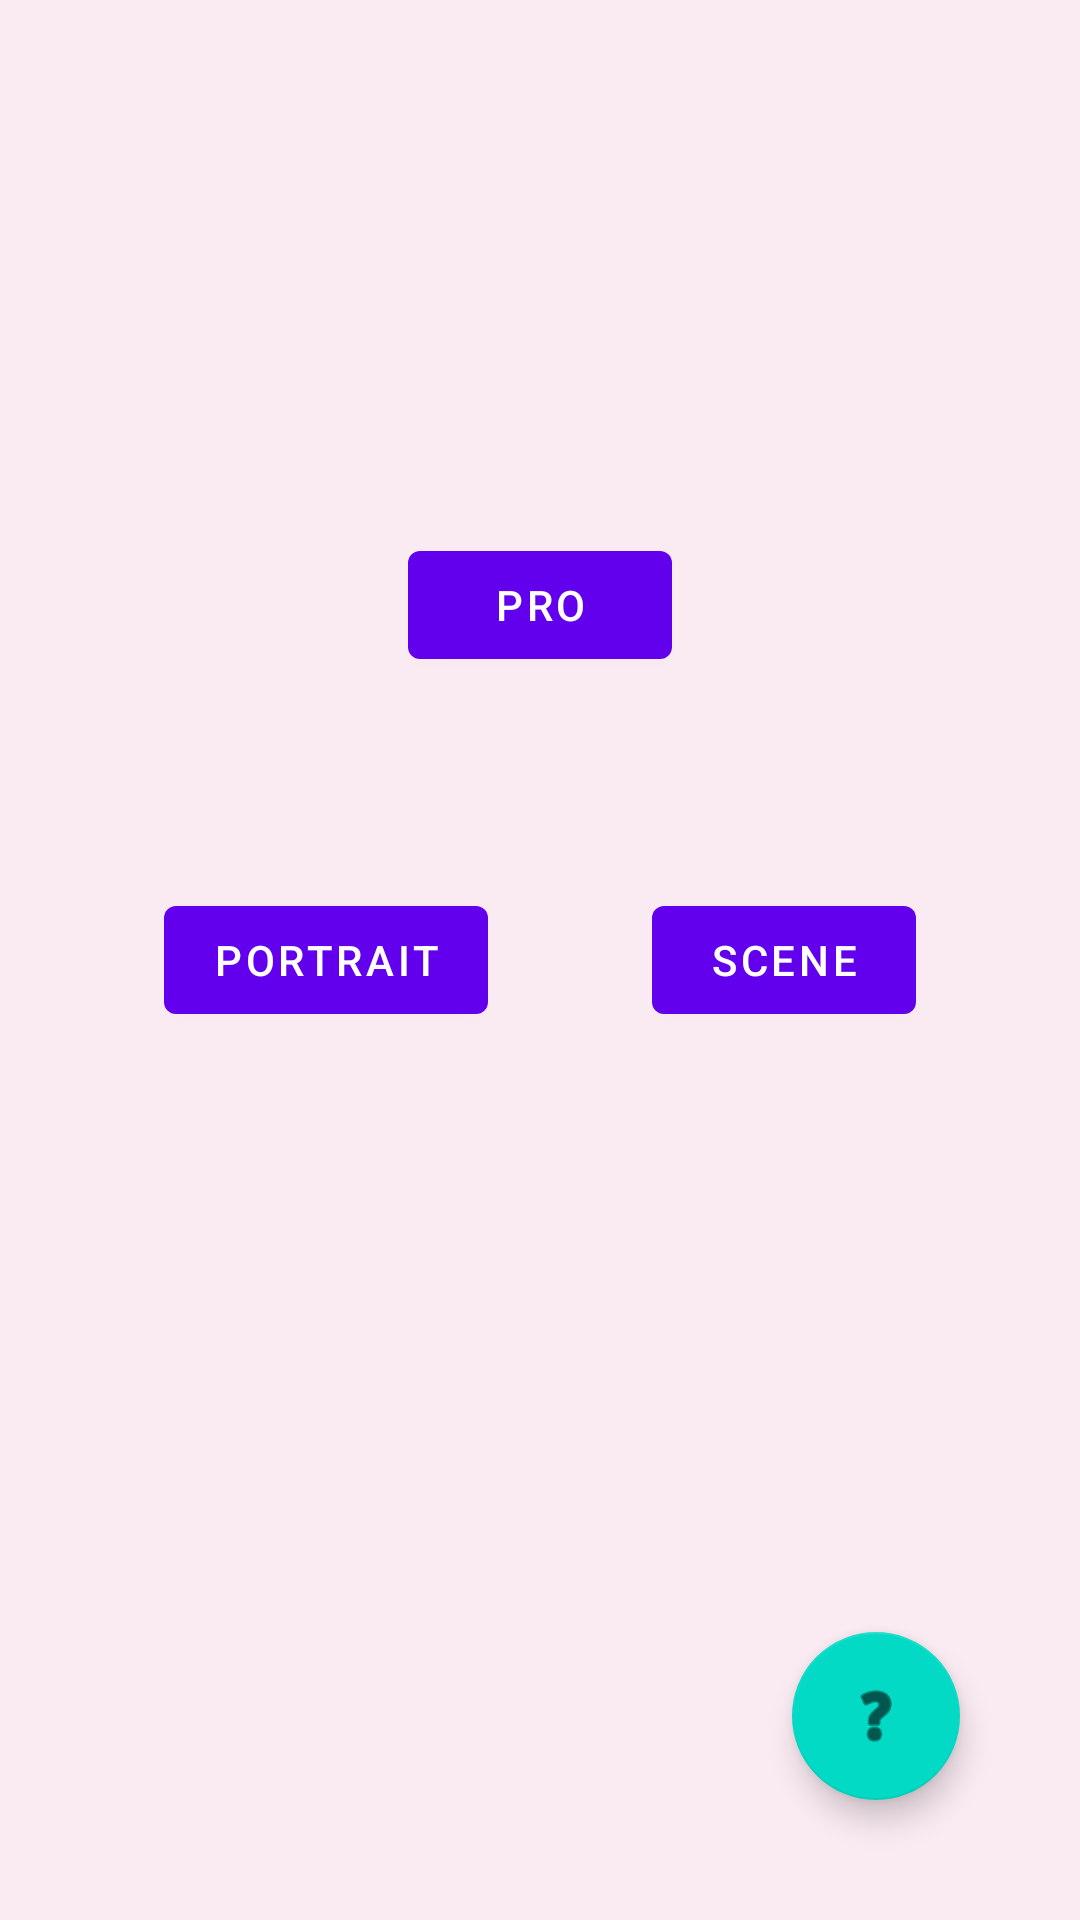

Icon click points for this 1080w x 1920h phone screenshot, format point (x, y):
help: point (876, 1716)
